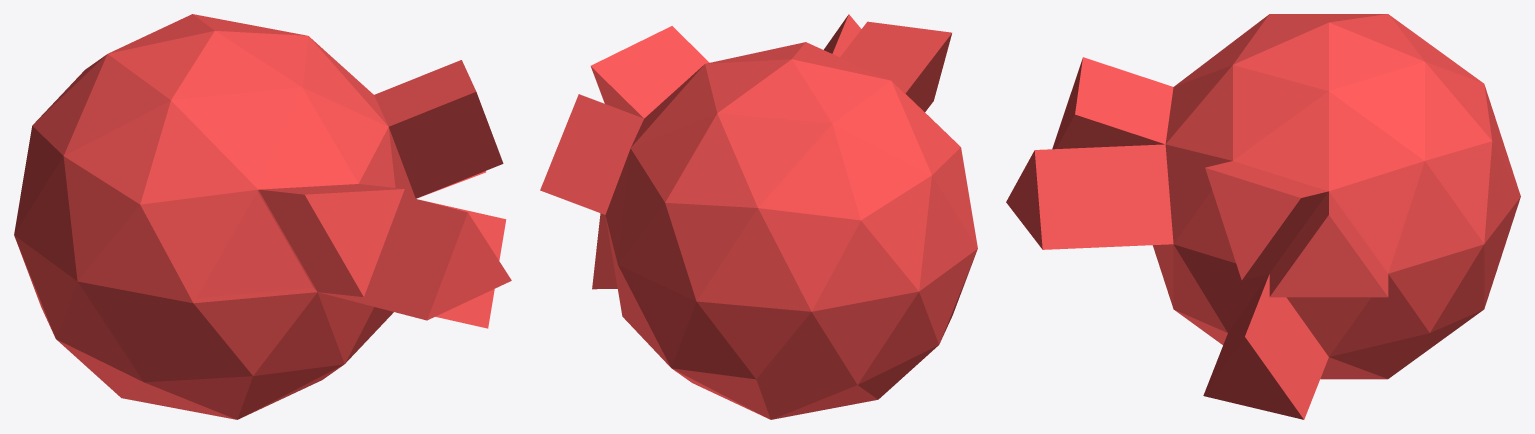
File: knubbel.dae
3 renders of one model, left to right at view 1: azimuth 30°, elevation 25°; view 2: azimuth 150°, elevation 25°; view 3: azimuth 270°, elevation 25°, orthographic. The views are drawn at different scales.
Visible parts, largest first — view 1: skpLfmzw9; view 2: skpLfmzw9; view 3: skpLfmzw9.
Part boxes in pixels (x1,y1,x2,y2): skpLfmzw9: (14, 14, 511, 419); skpLfmzw9: (540, 14, 977, 419); skpLfmzw9: (1006, 14, 1520, 419).
Size of the model in its own units: 45.99 by 52.78 by 39.37.
